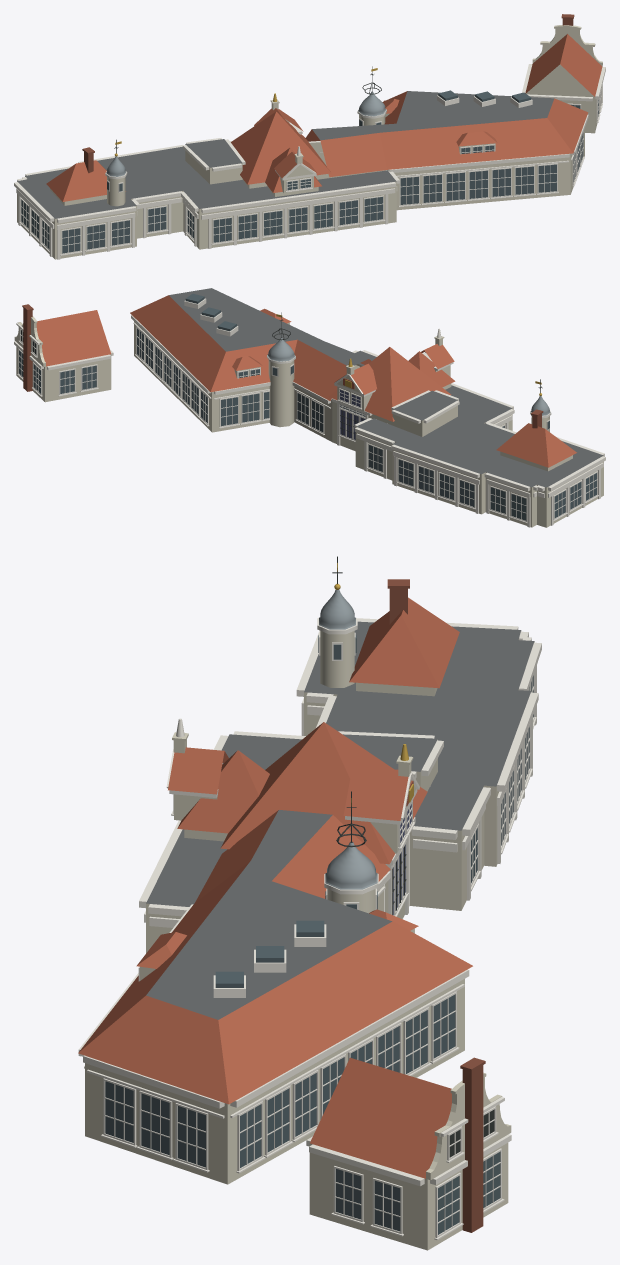
The model's file is stationsplein-paviljoens.glb.
3 views of the same model, one above another, from view 1: azimuth 30°, elevation 25°; view 2: azimuth 150°, elevation 25°; view 3: azimuth 270°, elevation 25° (orthographic). The views are drawn at different scales.
Parts seen in each view (by area): view 1: stationsplein-paviljoens; view 2: stationsplein-paviljoens; view 3: stationsplein-paviljoens.
Part boxes in pixels (x1=…): stationsplein-paviljoens: x1=14, y1=14, x2=605, y2=259; stationsplein-paviljoens: x1=14, y1=288, x2=605, y2=527; stationsplein-paviljoens: x1=78, y1=556, x2=541, y2=1250.
Size of the model in its own units: 65.24 by 12 by 23.07.
